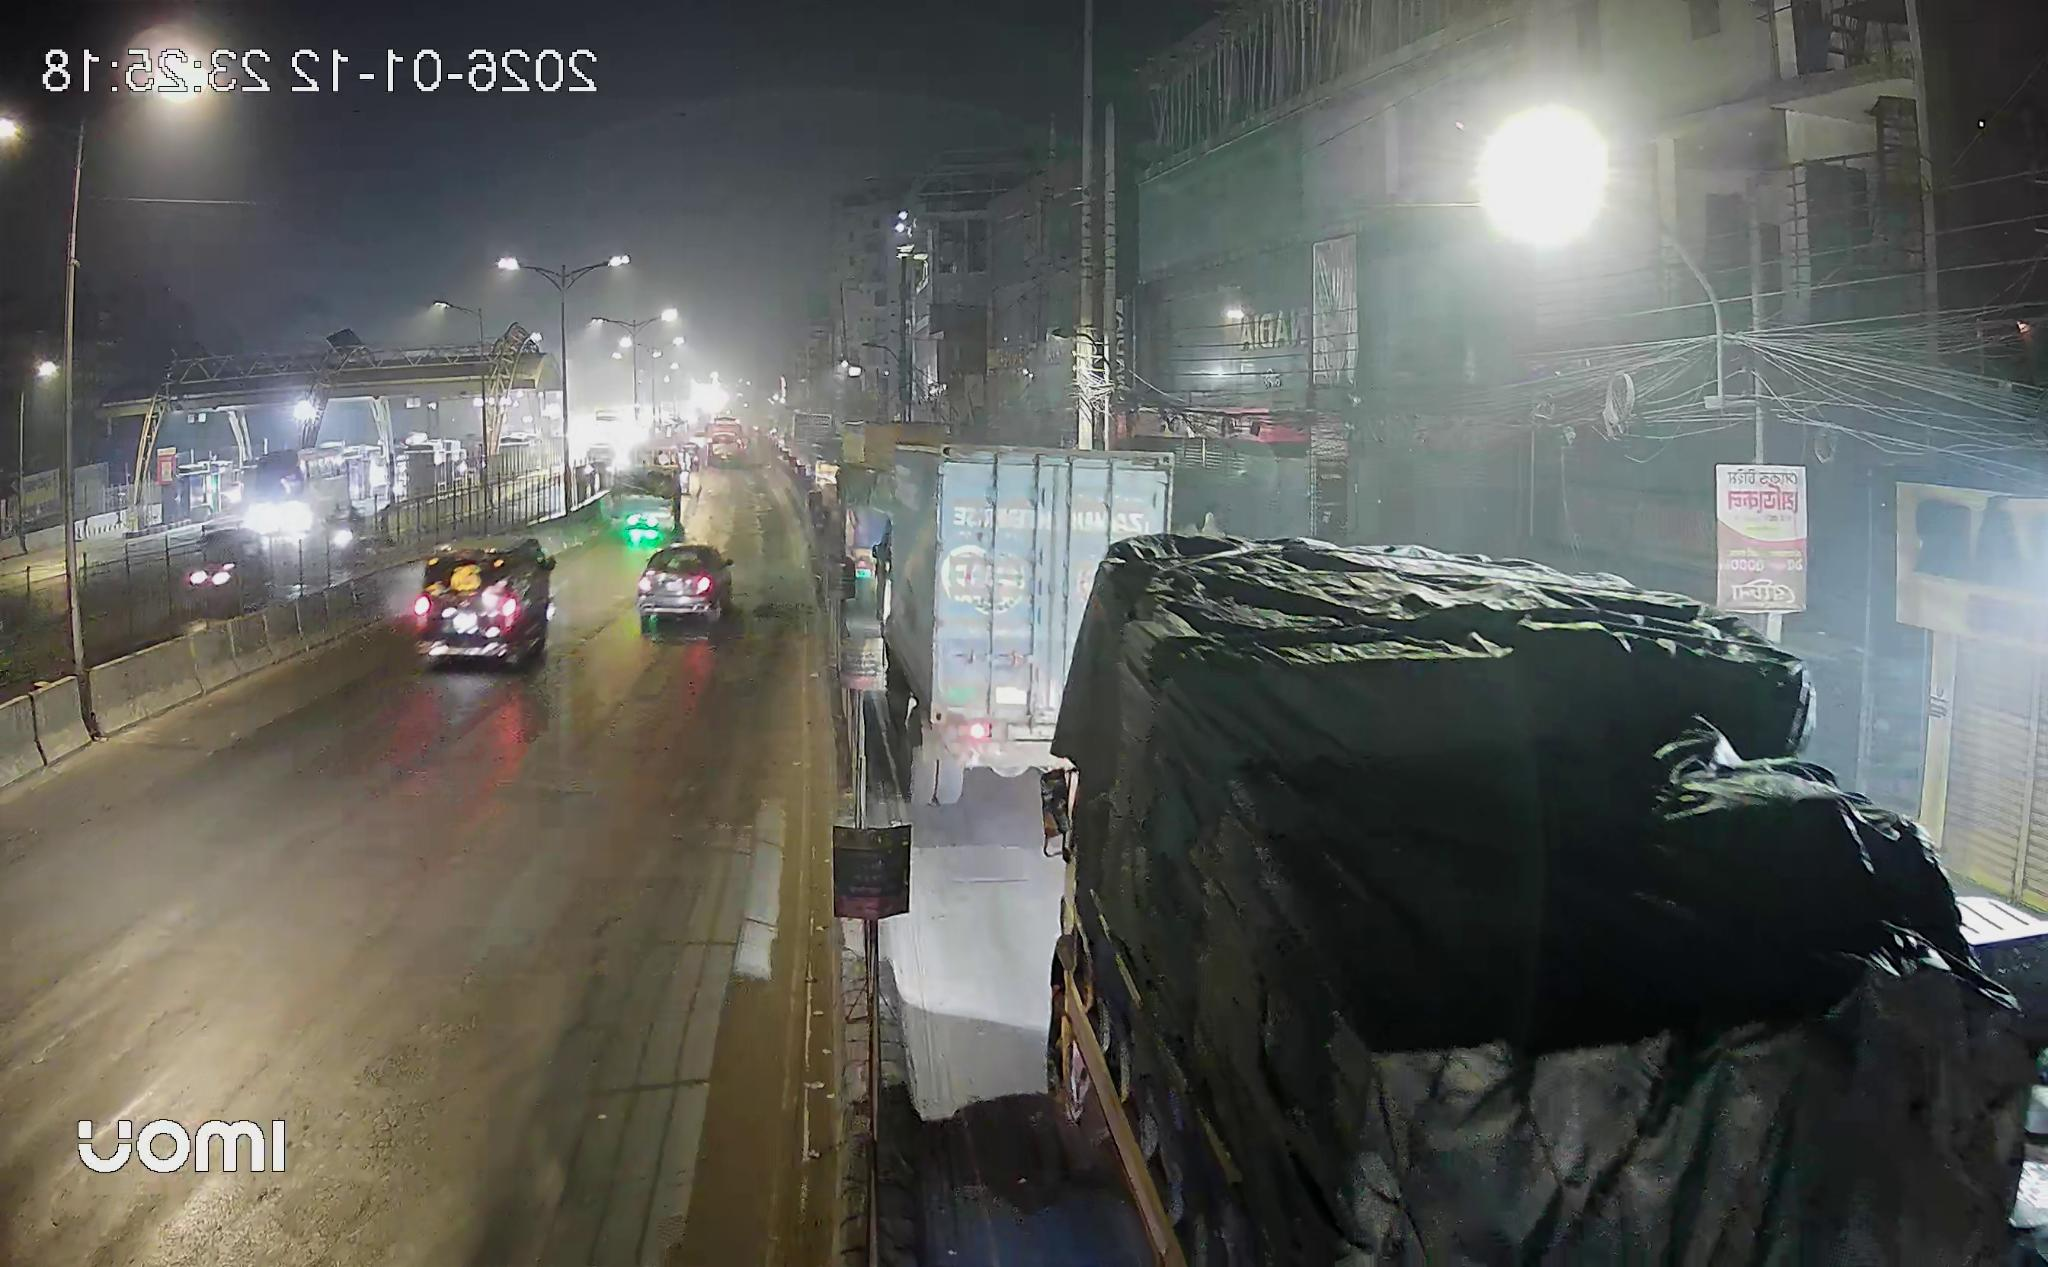CNG-Tempo: (186, 525, 268, 604)
Microbus: (413, 538, 556, 667)
Private-Sedan Car: (636, 543, 733, 628)
Truck: (1047, 535, 2033, 1267), (850, 445, 1173, 805)
